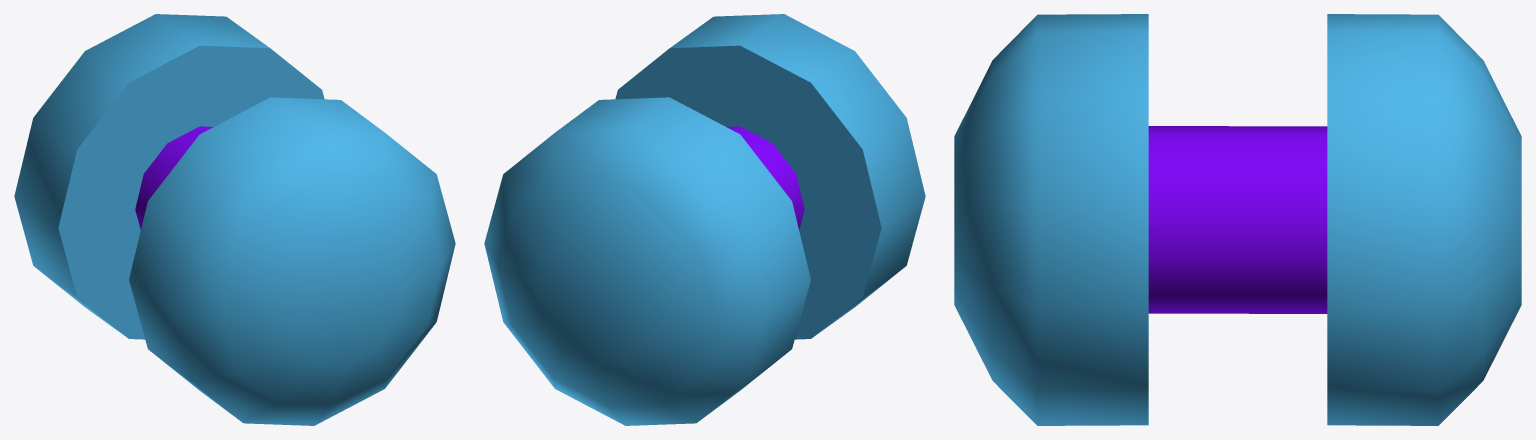
The model's file is Hanging_Hammer_Socket_03.fbx.
The picture shows the model from 3 angles, left to right: view 1: azimuth 30°, elevation 25°; view 2: azimuth 150°, elevation 25°; view 3: azimuth 270°, elevation 25°; orthographic projection. The views are drawn at different scales.
Parts seen in each view (by area): view 1: Obstacle_Hanging_Hammer_Socket_03; view 2: Obstacle_Hanging_Hammer_Socket_03; view 3: Obstacle_Hanging_Hammer_Socket_03.
Part boxes in pixels (x1,y1,x2,y2): Obstacle_Hanging_Hammer_Socket_03: (14,14,455,425); Obstacle_Hanging_Hammer_Socket_03: (484,14,925,425); Obstacle_Hanging_Hammer_Socket_03: (954,14,1521,425).
Bounding box in the file's own units: 53.83 × 53.93 × 73.94.
Materials: 1 (1 with a texture image).
